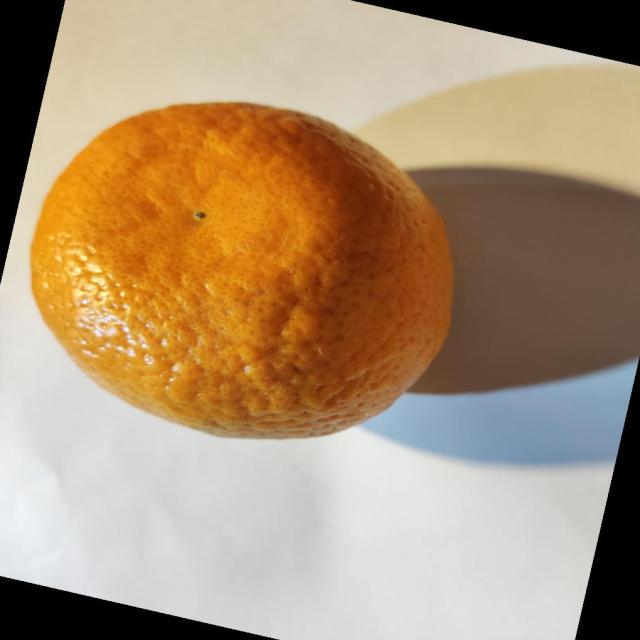fresh orange: (29, 99, 455, 441)
